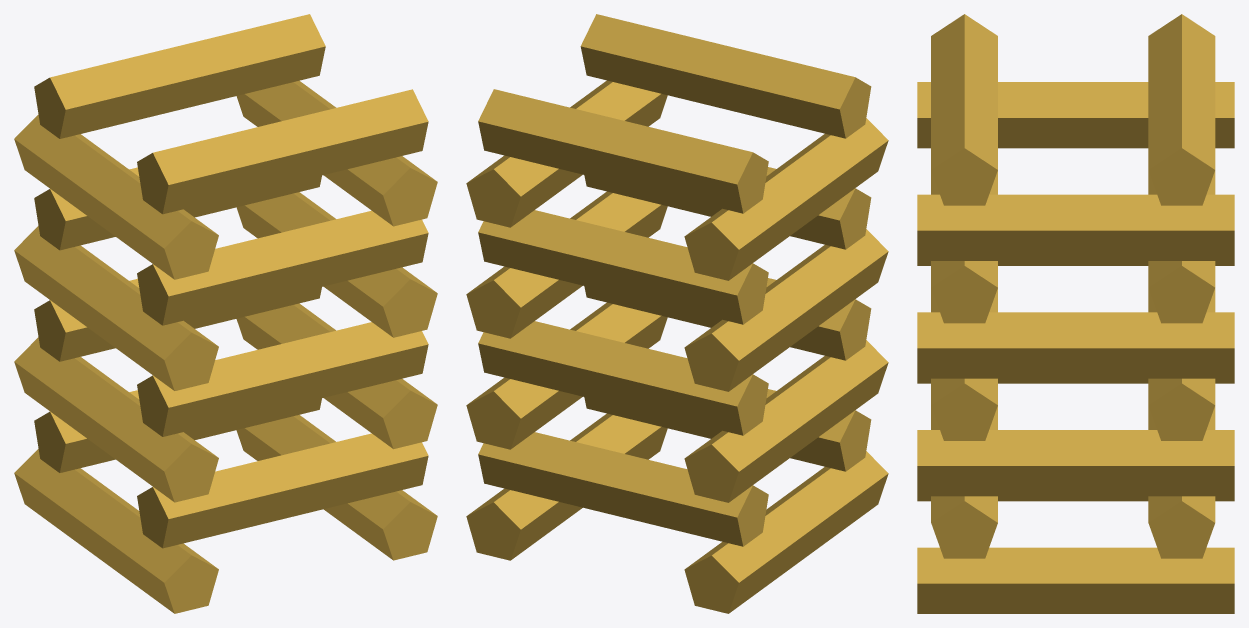
The model's file is firewood.fbx.
3 views of the same model, side by side, from view 1: azimuth 30°, elevation 25°; view 2: azimuth 150°, elevation 25°; view 3: azimuth 270°, elevation 25° (orthographic). The views are drawn at different scales.
Parts seen in each view (by area): view 1: firewood; view 2: firewood; view 3: firewood.
Part boxes in pixels (x1,y1,x2,y2): firewood: (14, 14, 437, 613); firewood: (466, 14, 888, 613); firewood: (917, 14, 1234, 613).
Bounding box in the file's own units: 210 × 327 × 200.
